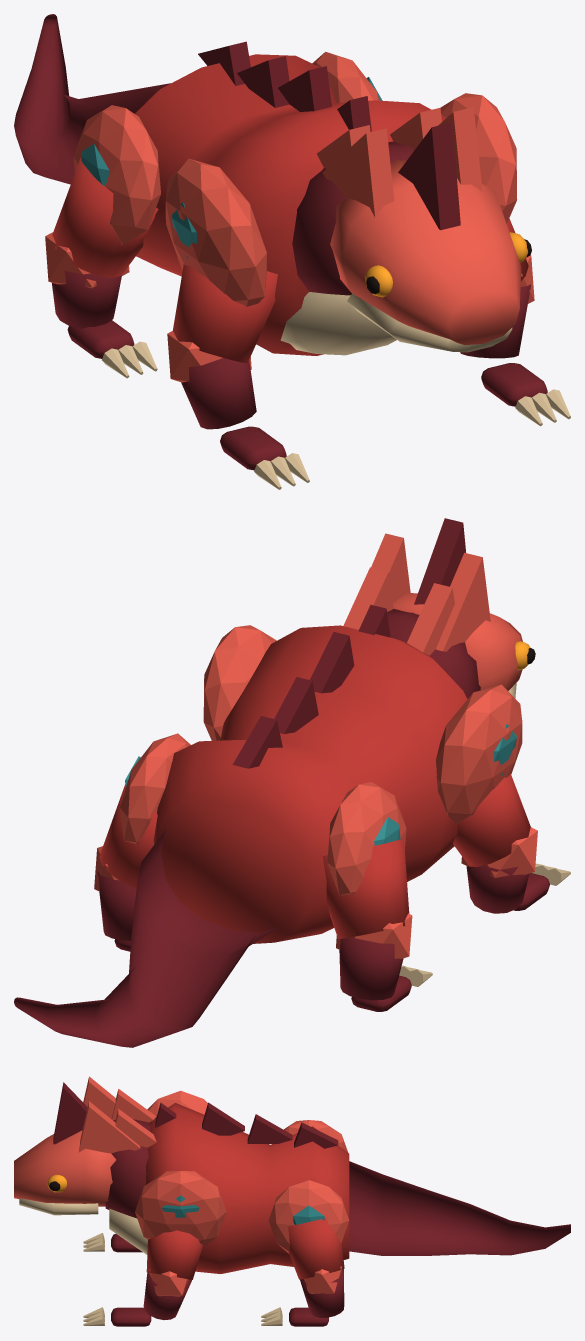
Rendered from scarlet-hunter-production-blockout-v1.glb.
3 renders of one model, top to bottom at view 1: azimuth 30°, elevation 25°; view 2: azimuth 150°, elevation 25°; view 3: azimuth 270°, elevation 25°, orthographic. The views are drawn at different scales.
Visible parts, largest first — view 1: ScarletHunterProductionBlockout; view 2: ScarletHunterProductionBlockout; view 3: ScarletHunterProductionBlockout.
Boxes of the visible parts, x1=… form: ScarletHunterProductionBlockout: x1=14, y1=14, x2=570, y2=489; ScarletHunterProductionBlockout: x1=14, y1=518, x2=570, y2=1047; ScarletHunterProductionBlockout: x1=14, y1=1076, x2=570, y2=1326.
Size of the model in its own units: 1.33 by 1.21 by 3.04.
